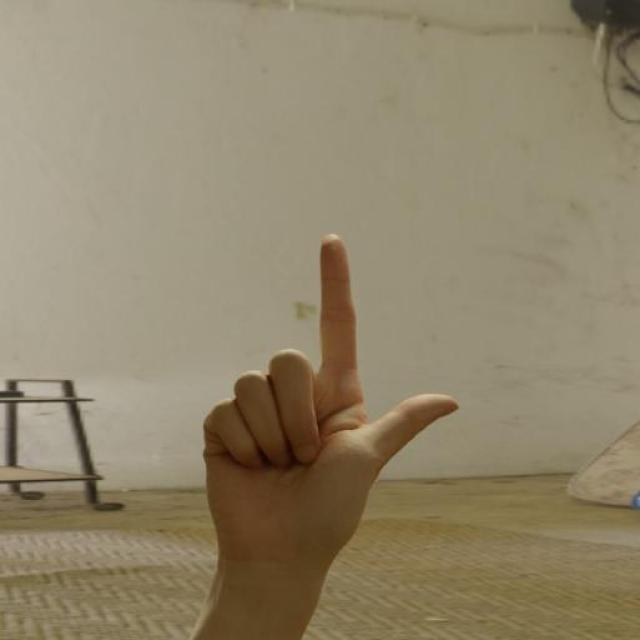L: (201, 230, 464, 540)
